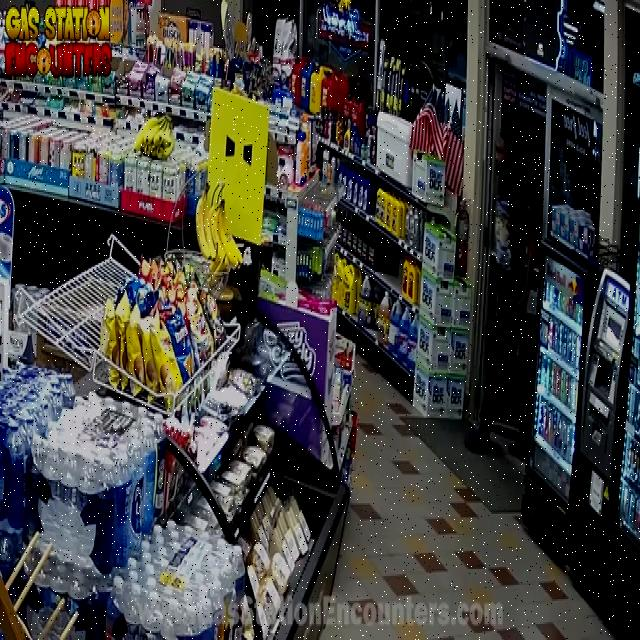hands: (515, 222, 536, 315)
person: (465, 135, 535, 452), (510, 372, 527, 457)
